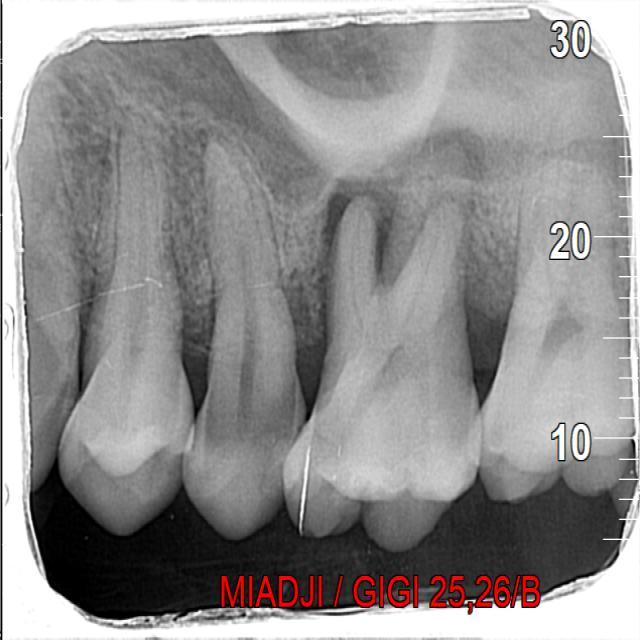individual-tooth-8tto: (278, 198, 486, 549), (185, 128, 321, 535), (62, 120, 197, 529)
